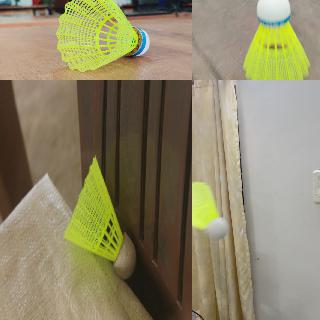shuttlecock: (63, 154, 135, 278), (55, 0, 150, 73), (243, 0, 312, 79), (192, 181, 229, 239)
